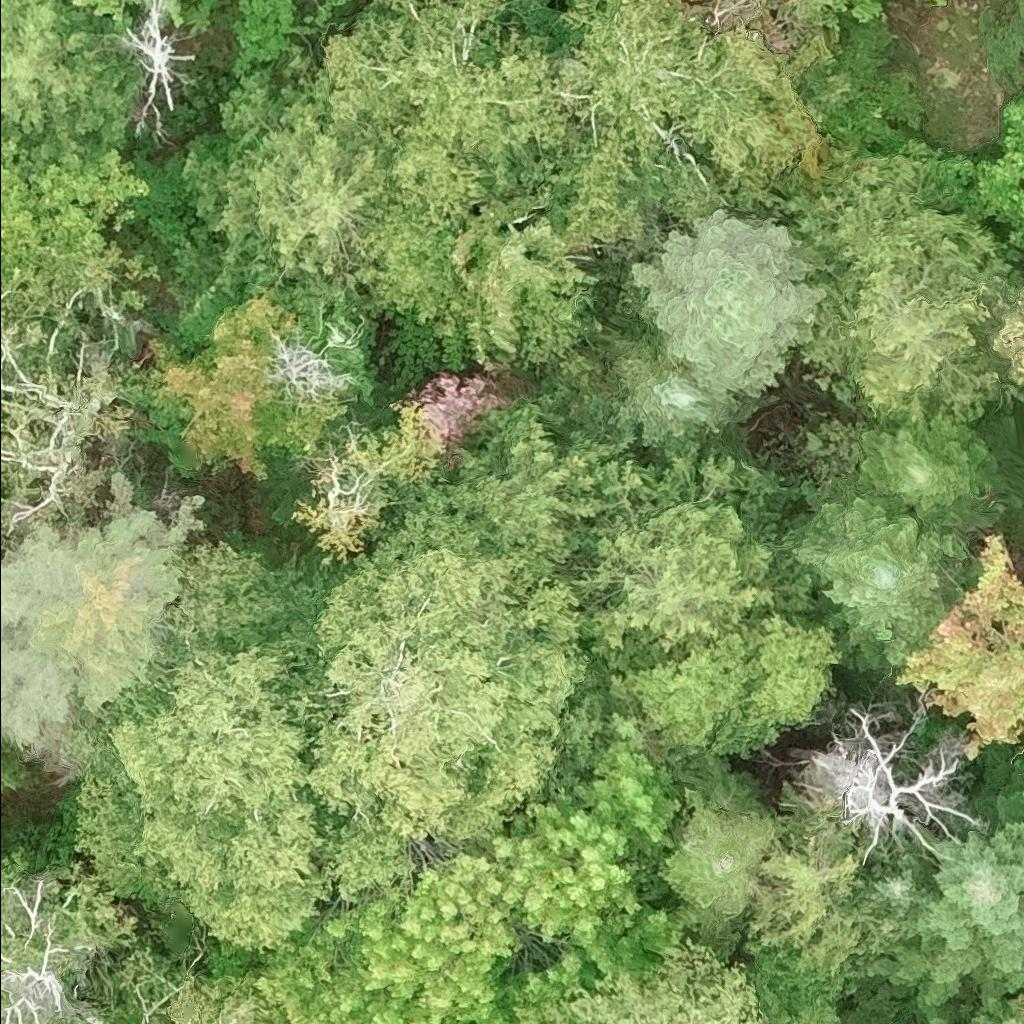crown: (213, 711, 692, 1023), (297, 481, 600, 900), (57, 540, 346, 951), (0, 470, 209, 782), (544, 0, 811, 243), (569, 435, 817, 671), (325, 0, 574, 228), (179, 47, 396, 308), (798, 162, 1012, 418), (378, 192, 601, 393), (120, 282, 350, 476), (0, 238, 132, 546), (624, 207, 828, 400), (434, 396, 628, 580), (605, 611, 842, 761), (781, 487, 967, 667), (898, 535, 1023, 764), (871, 824, 1023, 1009), (797, 710, 976, 867), (742, 785, 885, 975), (520, 939, 841, 1023), (589, 311, 759, 456), (656, 754, 778, 956), (0, 849, 140, 1023), (0, 0, 137, 176), (857, 402, 1013, 539), (798, 26, 929, 149), (108, 946, 286, 1023), (677, 0, 843, 81), (360, 200, 463, 324), (127, 0, 201, 148), (963, 98, 1023, 251), (992, 302, 1023, 384), (0, 745, 43, 799), (70, 0, 142, 17), (843, 0, 884, 26), (976, 1007, 1023, 1023), (160, 0, 185, 26), (0, 848, 13, 867), (939, 1023, 948, 1023)
